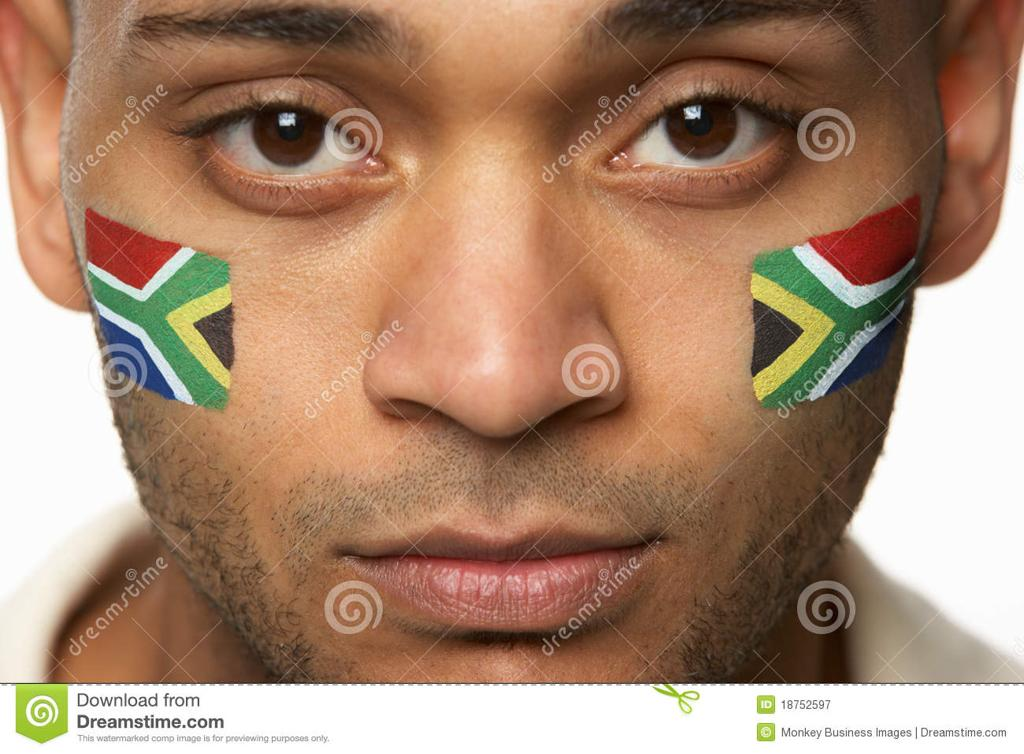face: (92, 1, 924, 688)
